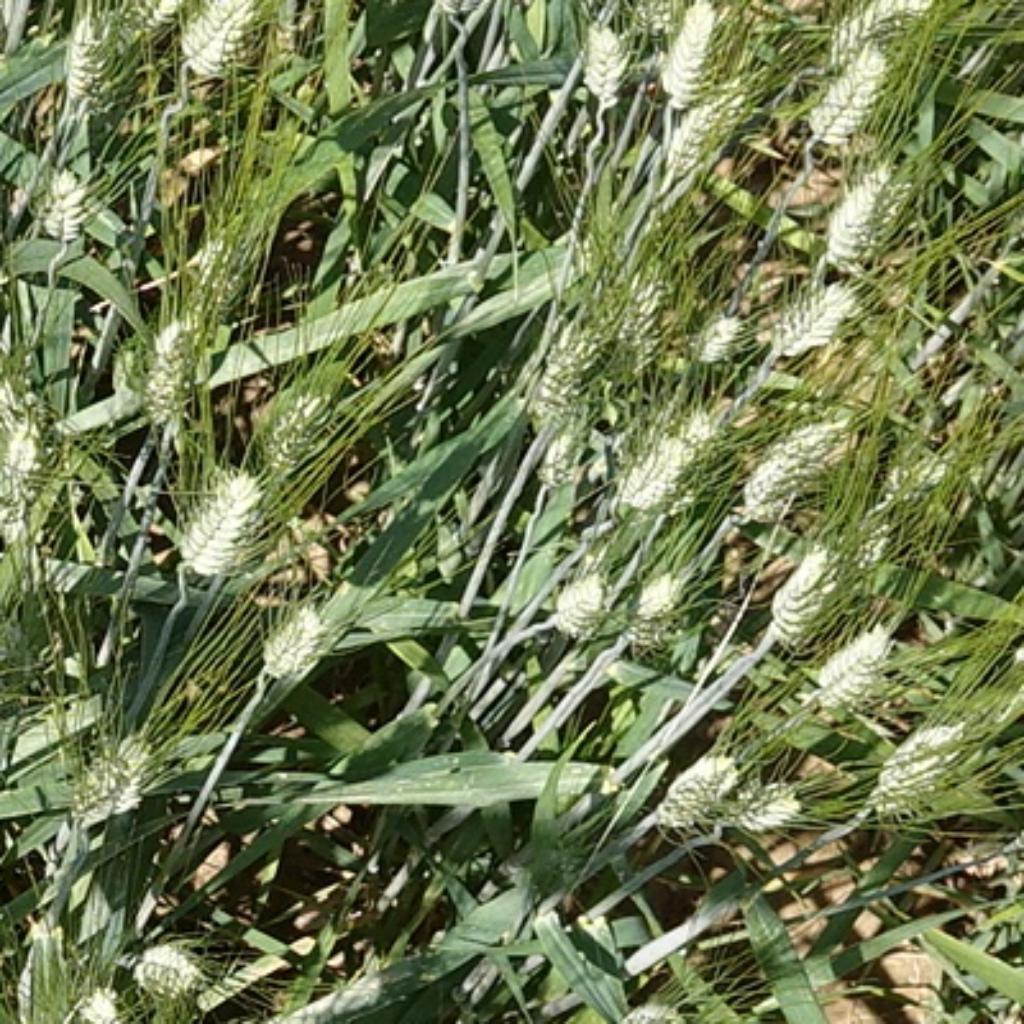0-0: (532, 199, 632, 414), (591, 384, 734, 529), (755, 496, 890, 640), (732, 394, 865, 527), (801, 133, 924, 266), (168, 156, 279, 291), (243, 348, 358, 476), (161, 453, 273, 578), (583, 250, 670, 409), (51, 0, 163, 119), (0, 353, 69, 545), (115, 294, 215, 422), (642, 739, 773, 834), (56, 714, 168, 821), (660, 56, 768, 166), (801, 25, 901, 133), (866, 719, 972, 819), (240, 496, 353, 583), (803, 614, 898, 711), (752, 266, 857, 350), (253, 586, 343, 678), (25, 151, 110, 248), (614, 547, 693, 650), (168, 0, 276, 75), (814, 0, 947, 60), (711, 770, 816, 845), (517, 412, 601, 496), (128, 926, 209, 1006), (570, 10, 627, 120), (651, 0, 722, 87), (545, 555, 616, 634), (678, 294, 742, 363), (66, 970, 133, 1024)
